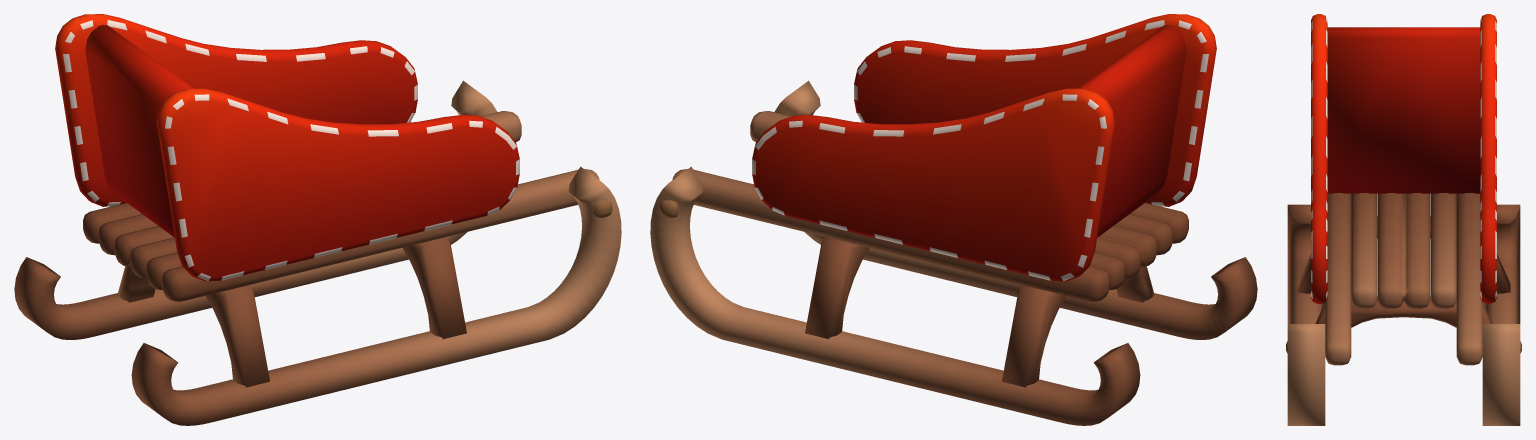
Rendered from Sleigh_03.fbx.
3 views of the same model, side by side, from view 1: azimuth 30°, elevation 25°; view 2: azimuth 150°, elevation 25°; view 3: azimuth 270°, elevation 25° (orthographic). The views are drawn at different scales.
Parts seen in each view (by area): view 1: Sleigh_03; view 2: Sleigh_03; view 3: Sleigh_03.
Part boxes in pixels (left/top/right/bottom): Sleigh_03: left=14, top=14, right=621, bottom=425; Sleigh_03: left=650, top=14, right=1257, bottom=425; Sleigh_03: left=1286, top=14, right=1521, bottom=425.
Bounding box in the file's own units: 137 × 88.07 × 70.93.
